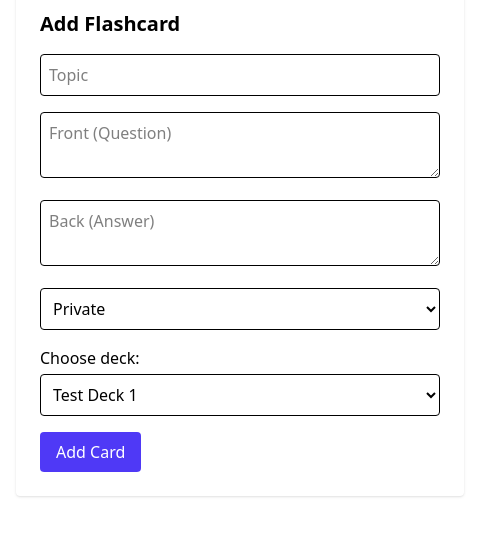
it: AddCardForm › shows validation error when submitting without selecting a deck
Clear any existing deck selection
Select "-- Select a deck --" in the dropdown with test id "deck-select": (240, 395) left=40, top=374, right=440, bottom=416
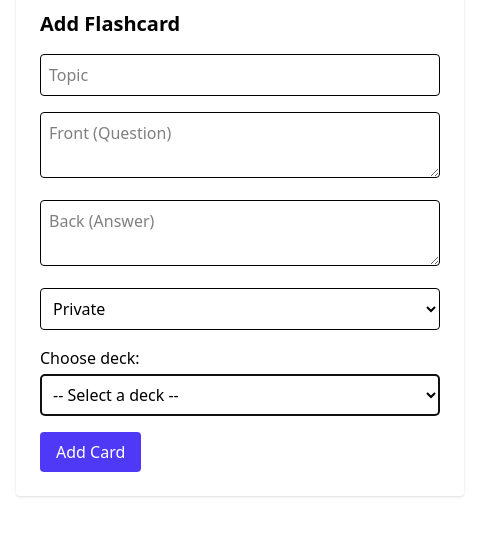
Submit the form with test id "add-card-form"
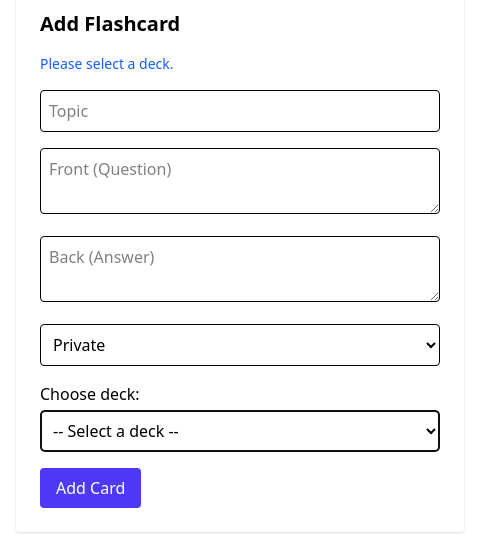
Now the text "Please select a deck." is shown, box left=40, top=54, right=174, bottom=73
